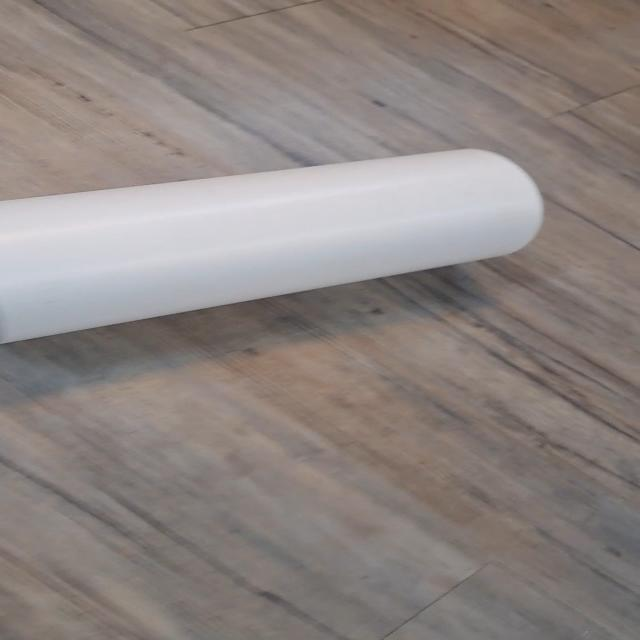CORAL: (0, 140, 563, 345)
